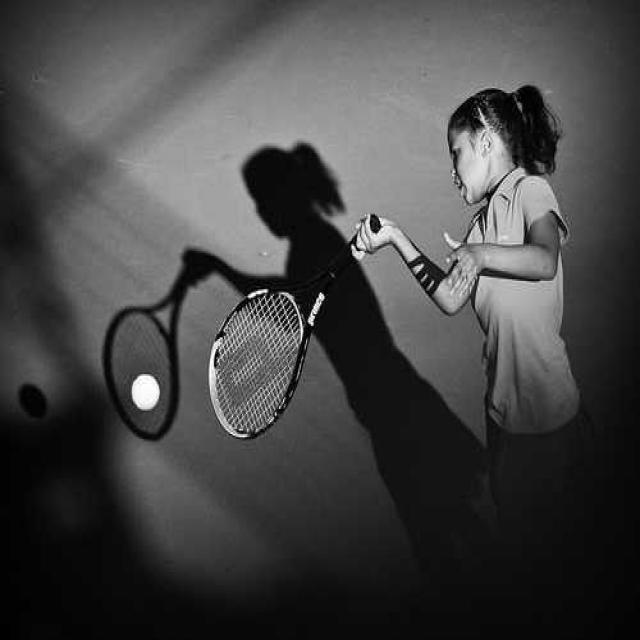Tennis_Ball: (129, 370, 162, 413)
